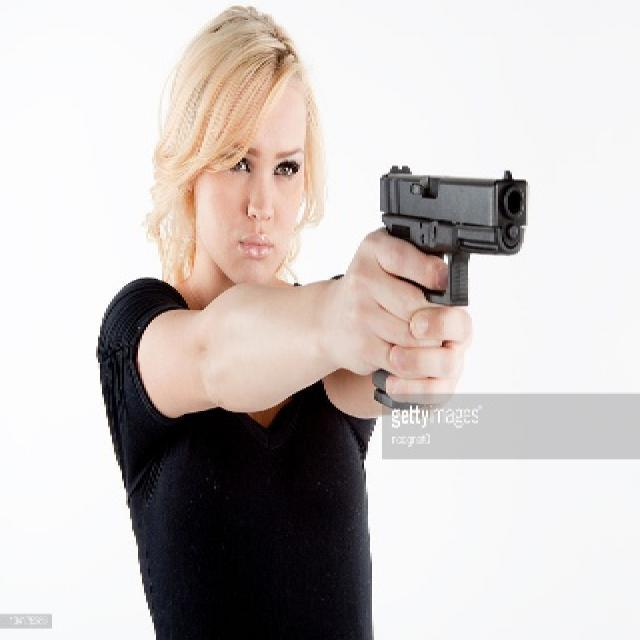weapon: (366, 153, 534, 313)
